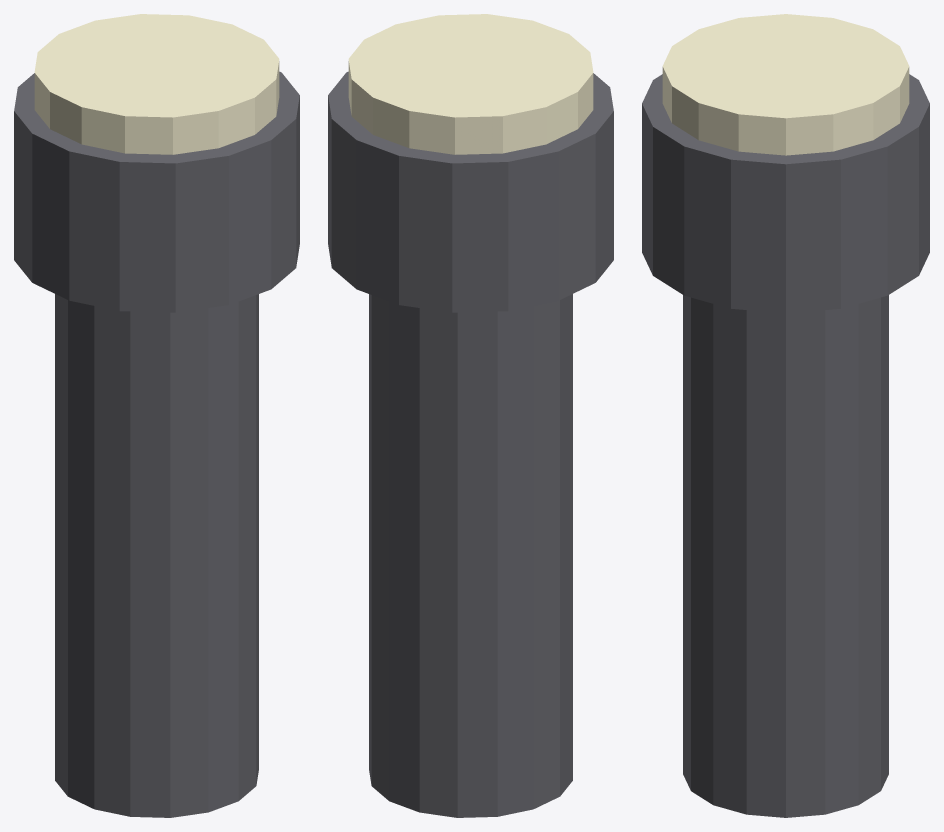
File: Flashlight.fbx
3 renders of one model, left to right at view 1: azimuth 30°, elevation 25°; view 2: azimuth 150°, elevation 25°; view 3: azimuth 270°, elevation 25°, orthographic.
Visible parts, largest first — view 1: Flashlight; view 2: Flashlight; view 3: Flashlight.
Part boxes in pixels (box(x1,y1,x2,y2)): Flashlight: box(14, 14, 299, 817); Flashlight: box(328, 14, 613, 817); Flashlight: box(642, 14, 929, 817).
Bounding box in the file's own units: 7 × 19 × 7.
